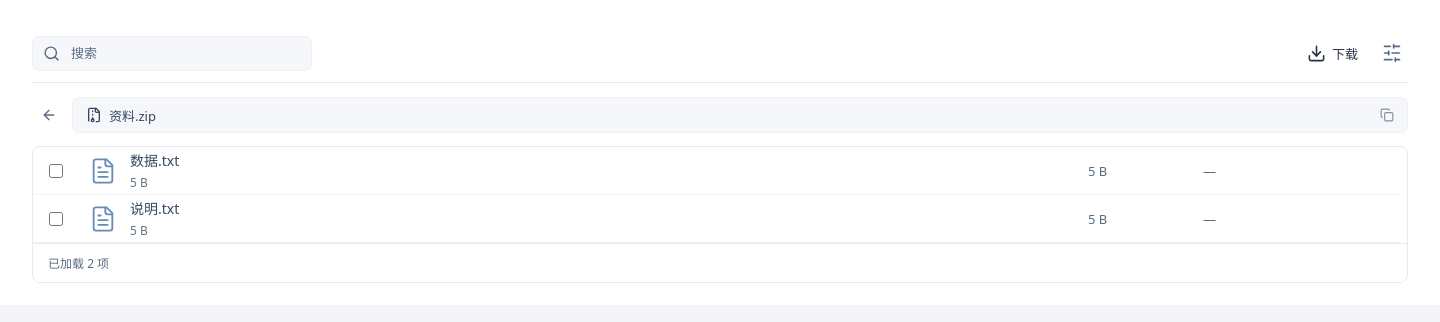
Scenario: enters mobile archive selection from a long press without rendering the column headings
This screenshot has width=1440, height=322.
Right-click the button "说明.txt 5 B" at (155, 208), box x1=79 y1=195 x2=1078 y2=242
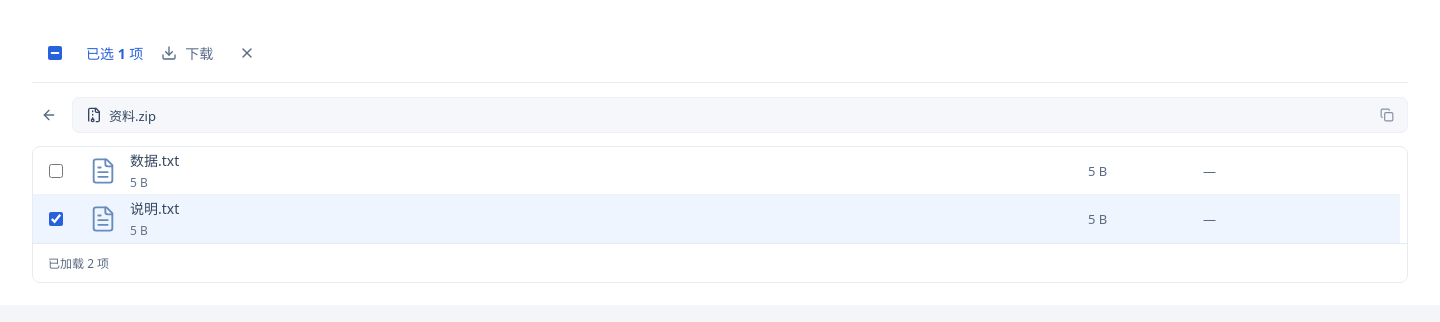
Check: the checkbox named "选择 说明.txt" is checked, box x1=49 y1=212 x2=63 y2=226
Click the checkbox named "选择所有已加载文件" at (55, 53), box x1=48 y1=46 x2=62 y2=60
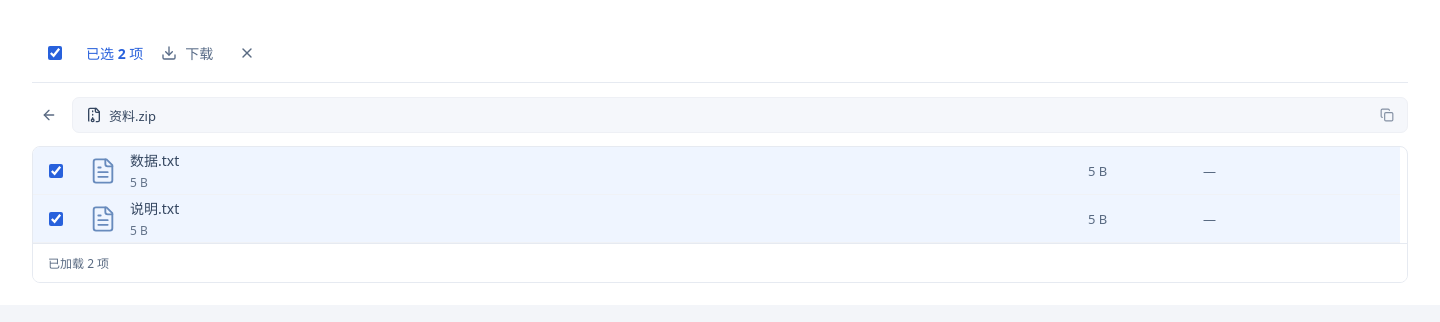
Check: the checkbox named "选择 数据.txt" is checked, box x1=49 y1=164 x2=63 y2=178
Click the button named "取消选择" at (247, 53), box x1=231 y1=37 x2=263 y2=69
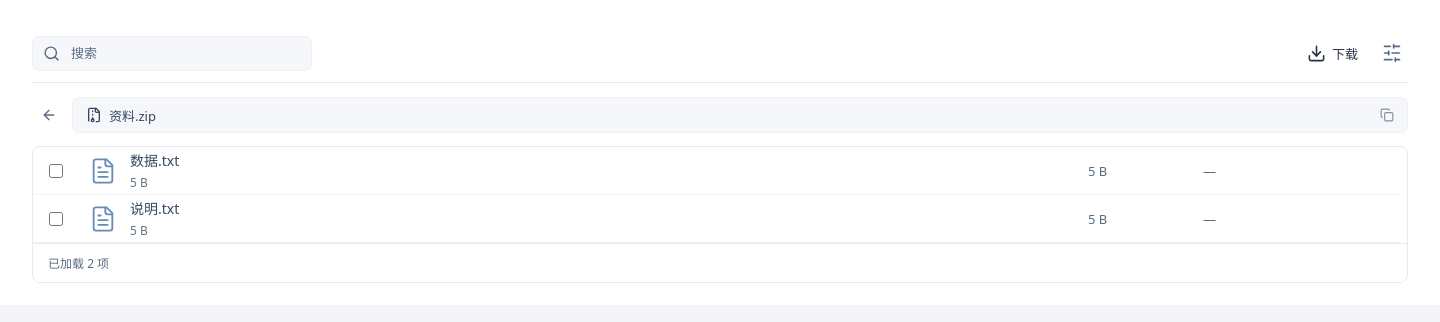
Check: the element "说明.txt" does not have class "selecting-files"
